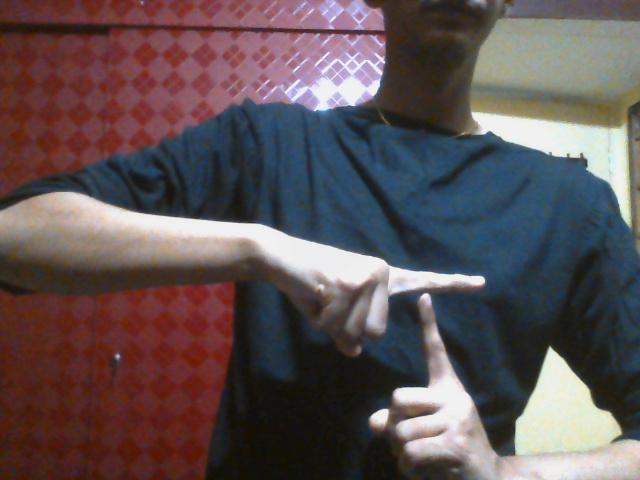T: (274, 229, 485, 480)
